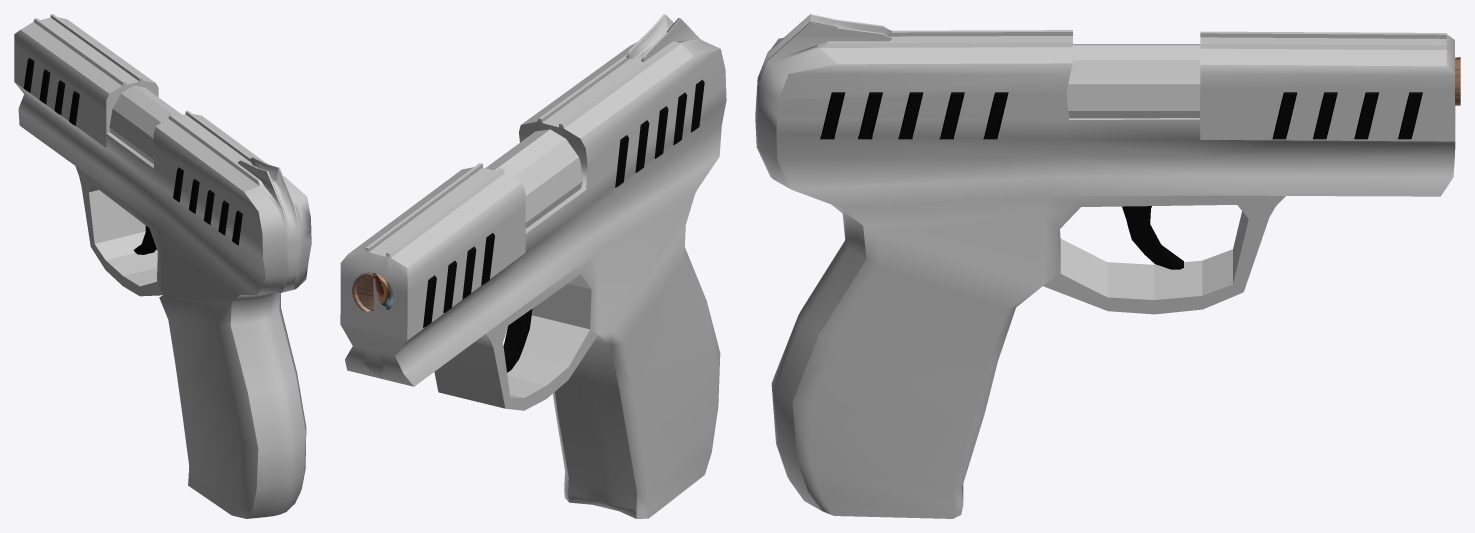
Rendered from Pistol.fbx.
3 views of the same model, side by side, from view 1: azimuth 30°, elevation 25°; view 2: azimuth 150°, elevation 25°; view 3: azimuth 270°, elevation 25° (orthographic). The views are drawn at different scales.
Parts seen in each view (by area): view 1: pCube3, pCylinder1, pPlane2, pCube4; view 2: pCube3, pCylinder1, pPlane2, pCylinder2, pCube4; view 3: pCube3, pCylinder1, pPlane2, pCube4.
Part boxes in pixels (x1,y1,x2,y2): pCube3: (14, 14, 311, 518); pCylinder1: (109, 85, 181, 164); pPlane2: (23, 58, 242, 245); pCube4: (134, 225, 156, 254); pCube3: (340, 14, 726, 518); pCylinder1: (485, 129, 582, 228); pPlane2: (423, 80, 704, 328); pCylinder2: (352, 272, 393, 311); pCube4: (503, 309, 532, 372); pCube3: (755, 14, 1455, 518); pCylinder1: (1066, 44, 1200, 118); pPlane2: (820, 92, 1422, 139); pCube4: (1122, 206, 1183, 269).
Bounding box in the file's own units: 1.26 × 6.33 × 8.44.
